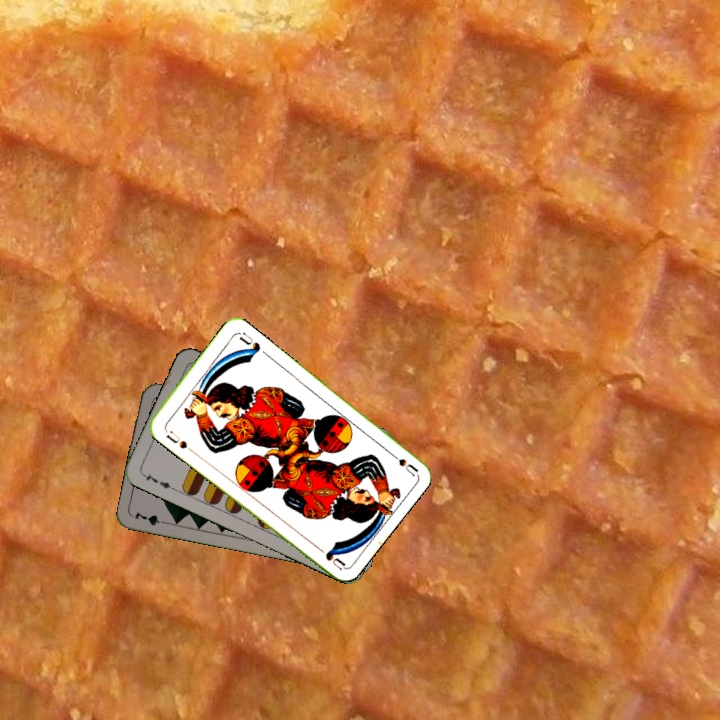E7: (138, 470, 177, 492)
G7: (131, 507, 171, 528)
SU: (383, 446, 420, 478), (160, 424, 190, 451)
